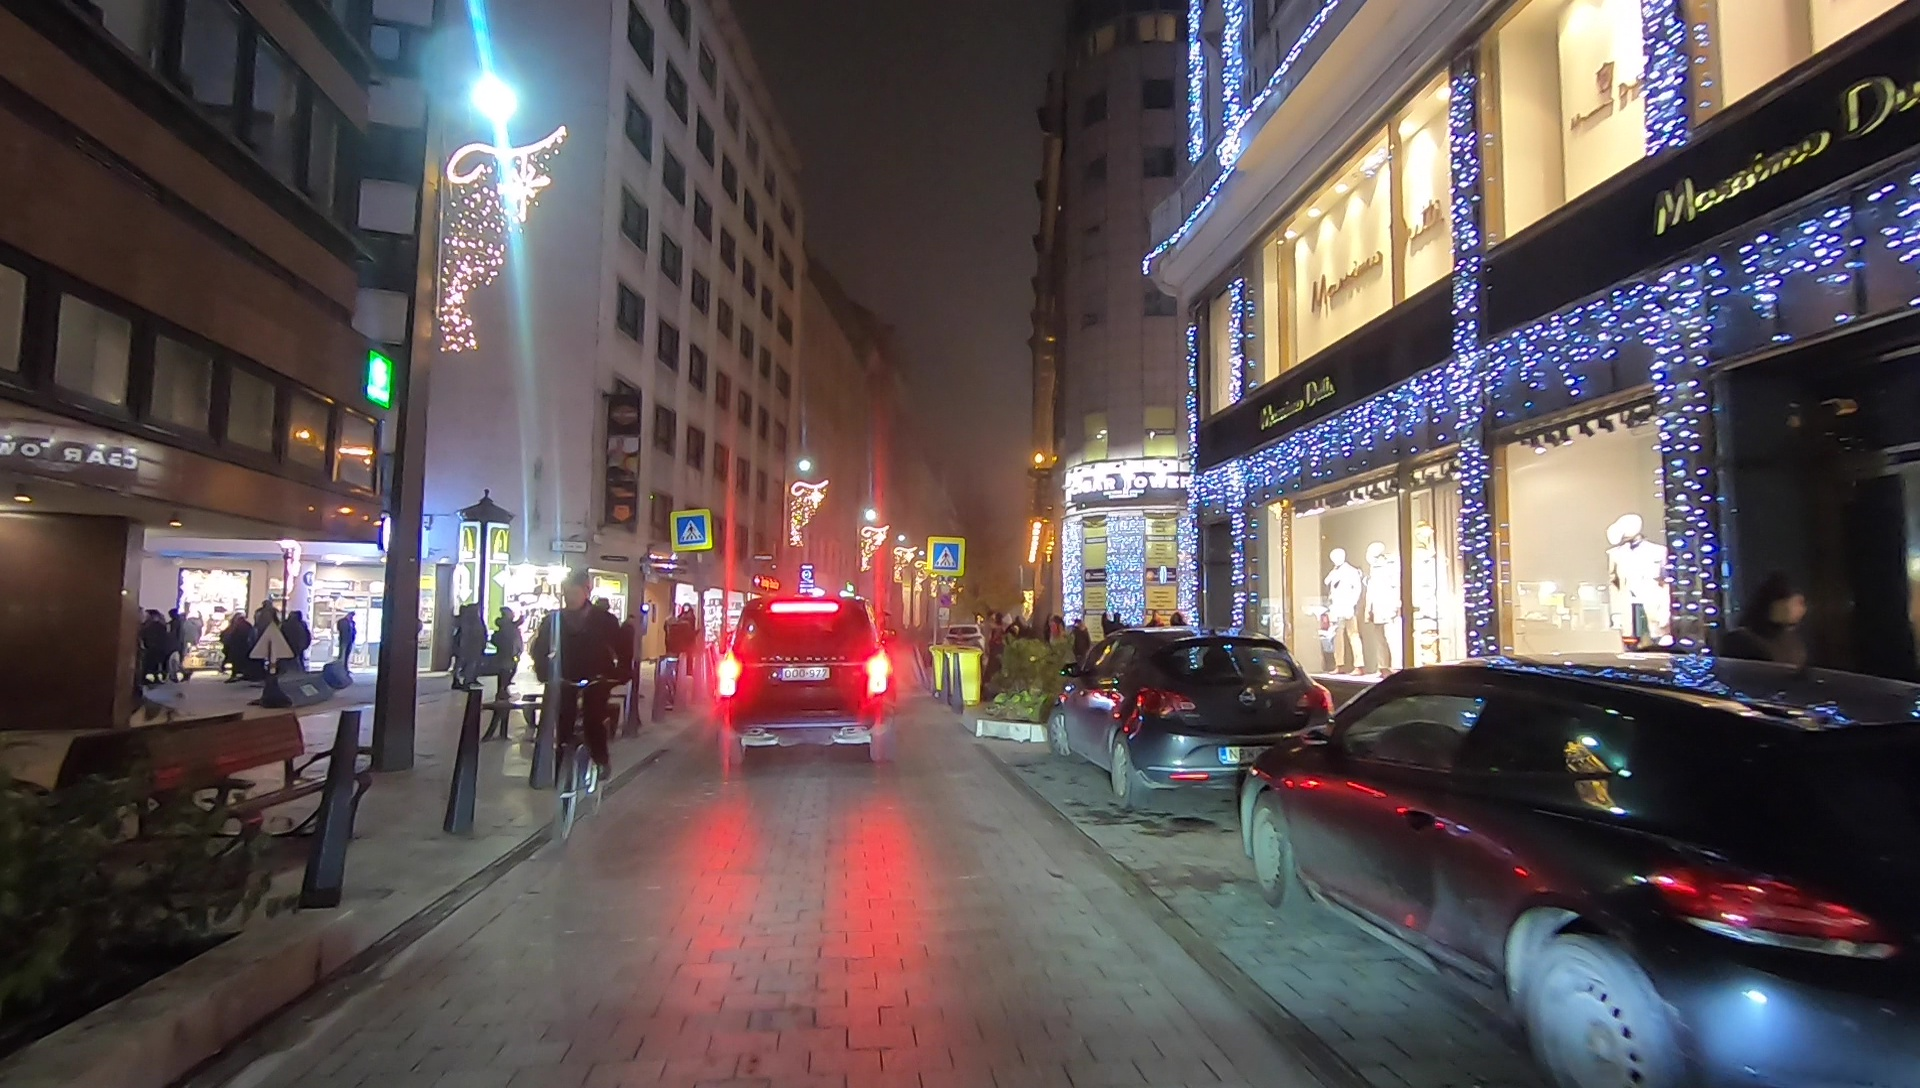person: (496, 606, 527, 698), (456, 600, 483, 689), (337, 612, 356, 671)
